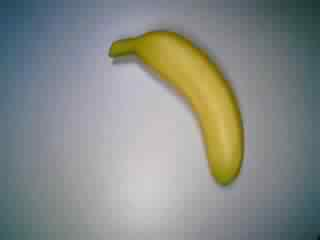banana: (108, 26, 253, 187)
